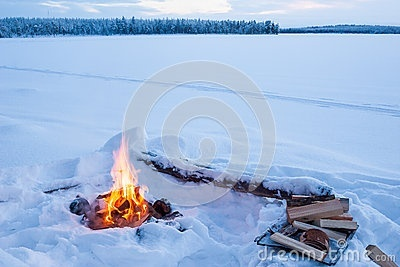fire: (101, 138, 149, 224)
